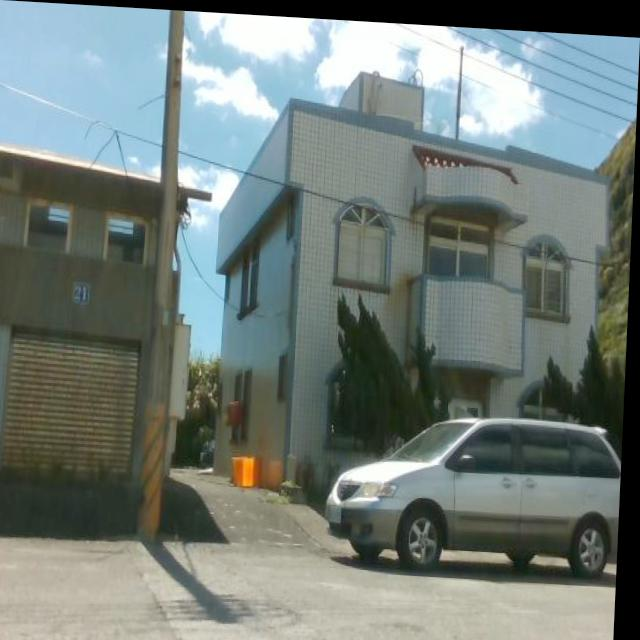pollute: (232, 452, 268, 489)
